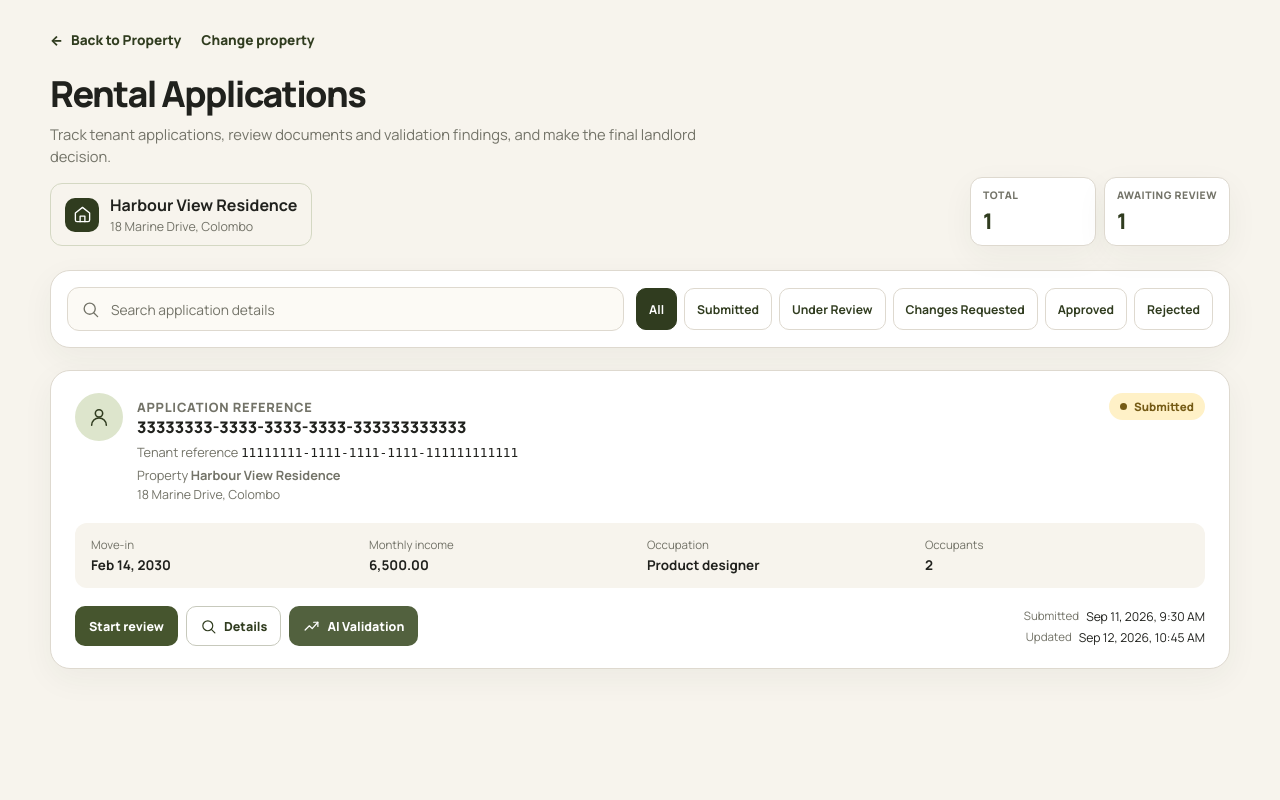
Test case: Landlord rental applications › starts review only for a submitted application through the existing transition
The image size is (1280, 800).
Click the button "Start review".
click(126, 626)  # box left=75, top=606, right=178, bottom=646
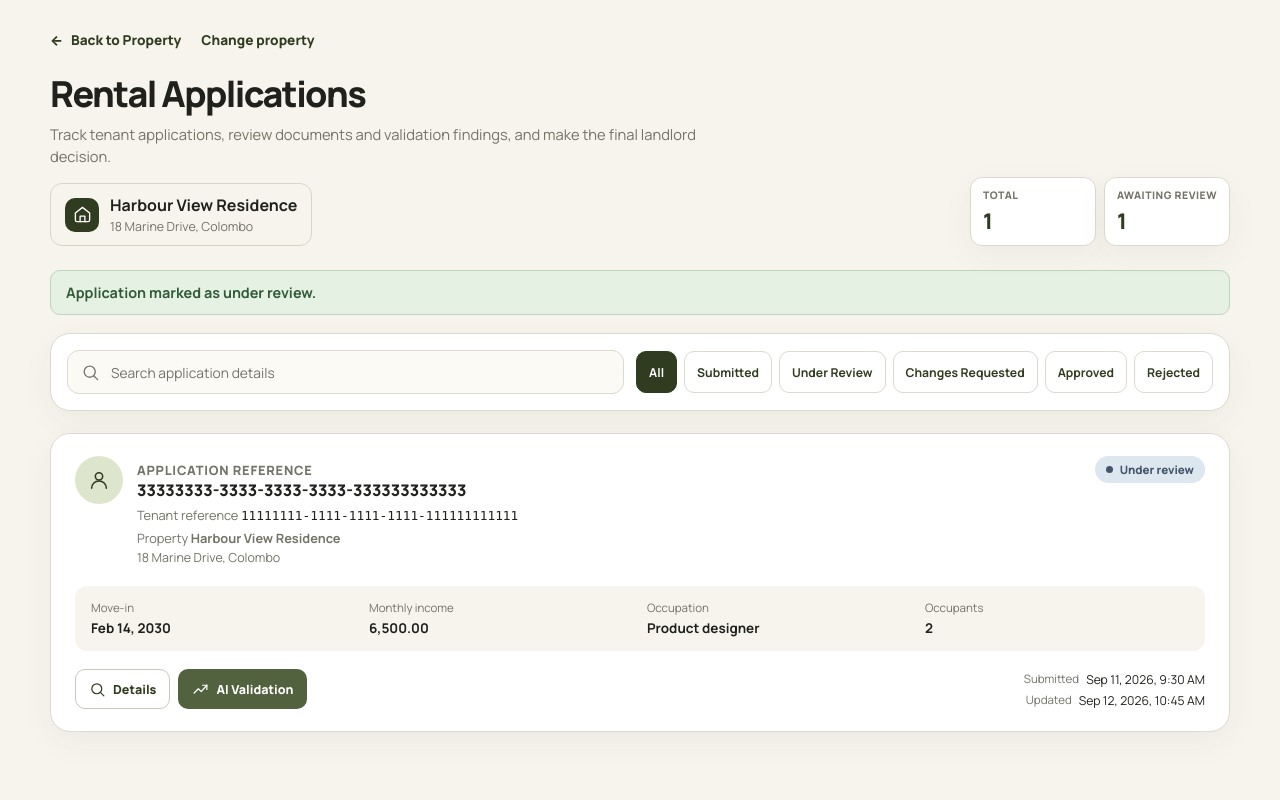
expect the message reads "Application marked as under review.": met, box left=66, top=283, right=316, bottom=302
expect the element named "Application status: Under review" is shown: met, box left=1095, top=456, right=1205, bottom=483
expect the button "Start review" is gone: met
